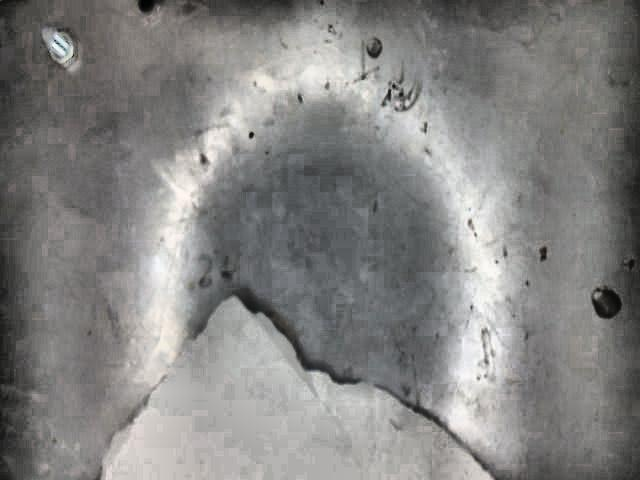Paper: (101, 295, 500, 480)
